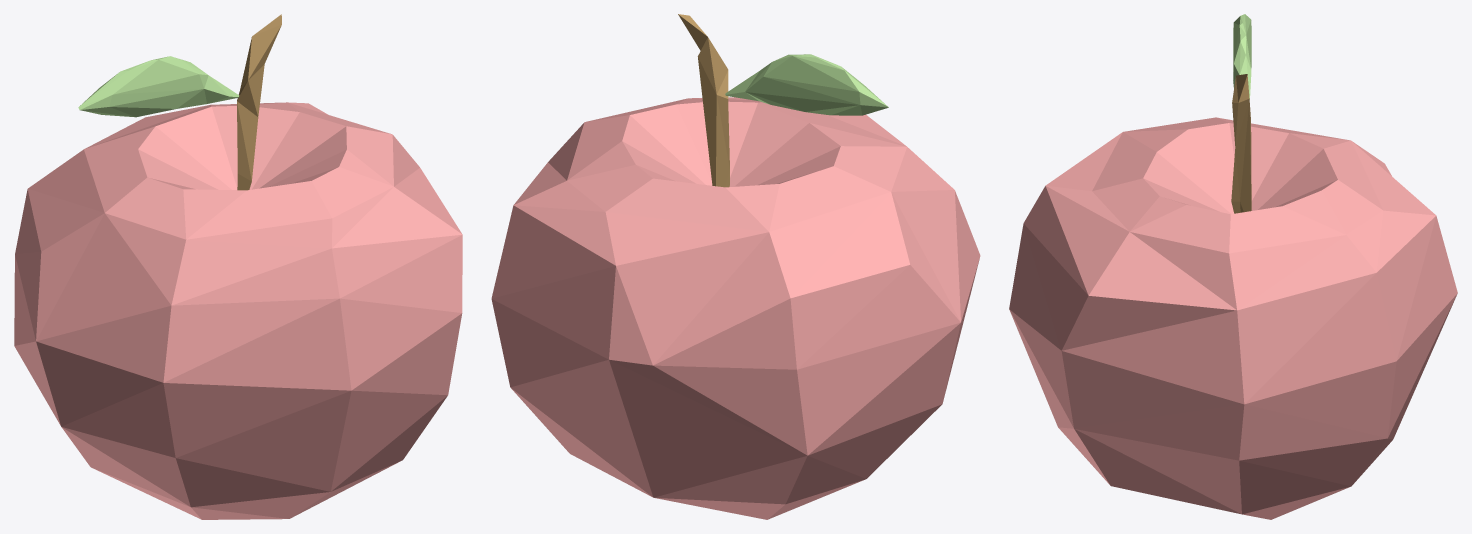
The model's file is Apple01.fbx.
The picture shows the model from 3 angles, left to right: view 1: azimuth 30°, elevation 25°; view 2: azimuth 150°, elevation 25°; view 3: azimuth 270°, elevation 25°; orthographic projection. The views are drawn at different scales.
Visible parts, largest first — view 1: Apple_body01, Happa02, Eda01; view 2: Apple_body01, Happa02, Eda01; view 3: Apple_body01, Eda01, Happa02.
Part boxes in pixels (x1,y1,x2,y2): Apple_body01: (14,102,462,519); Happa02: (78,56,239,117); Eda01: (237,14,281,190); Apple_body01: (491,97,980,519); Happa02: (725,54,888,115); Eda01: (678,14,729,187); Apple_body01: (1009,117,1457,519); Eda01: (1231,74,1251,213); Happa02: (1233,14,1251,99).
Bounding box in the file's own units: 1.97 × 2.08 × 1.93.
